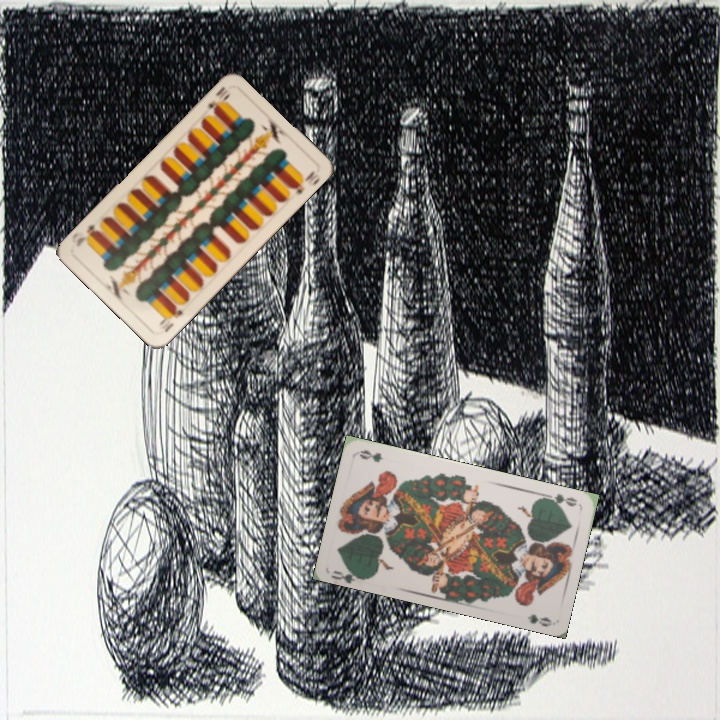E10: (154, 302, 185, 335), (203, 82, 233, 115)
GO: (328, 562, 369, 584), (540, 489, 580, 509)
